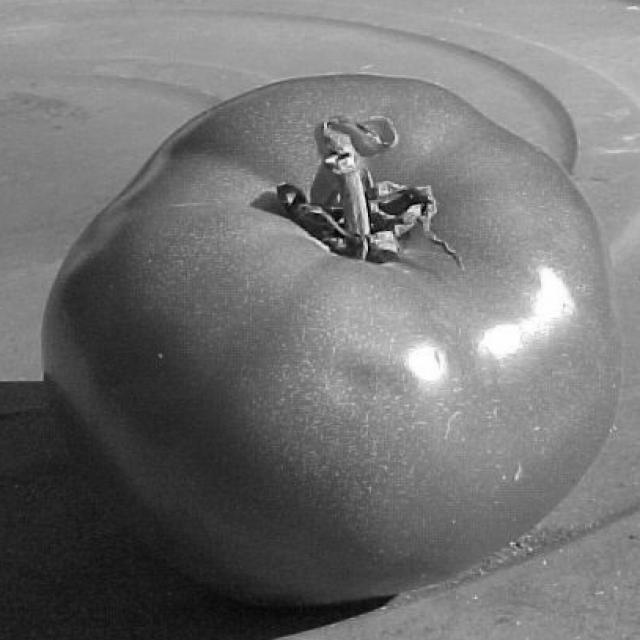Fresh_tomato: (95, 55, 590, 580)
